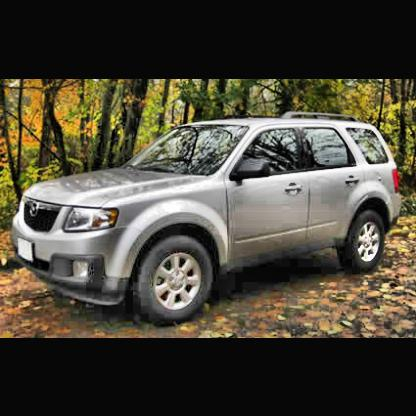Mazda Tribute SUV 2011: (13, 110, 404, 323)
